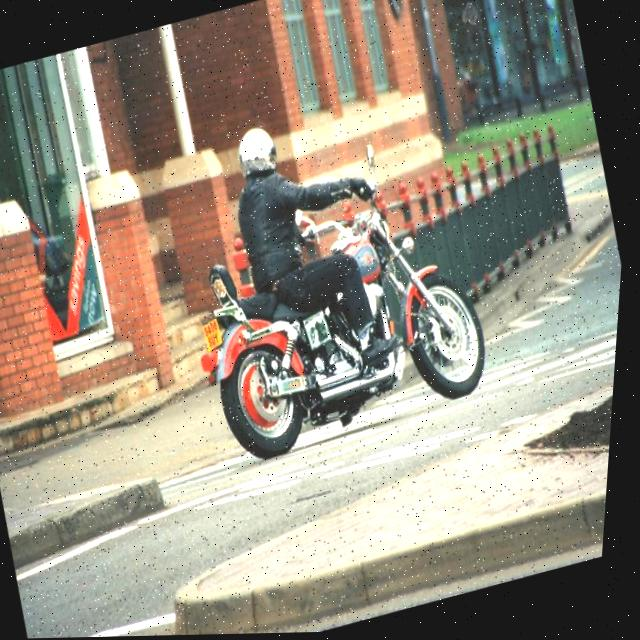motorcycle: (138, 116, 520, 483)
